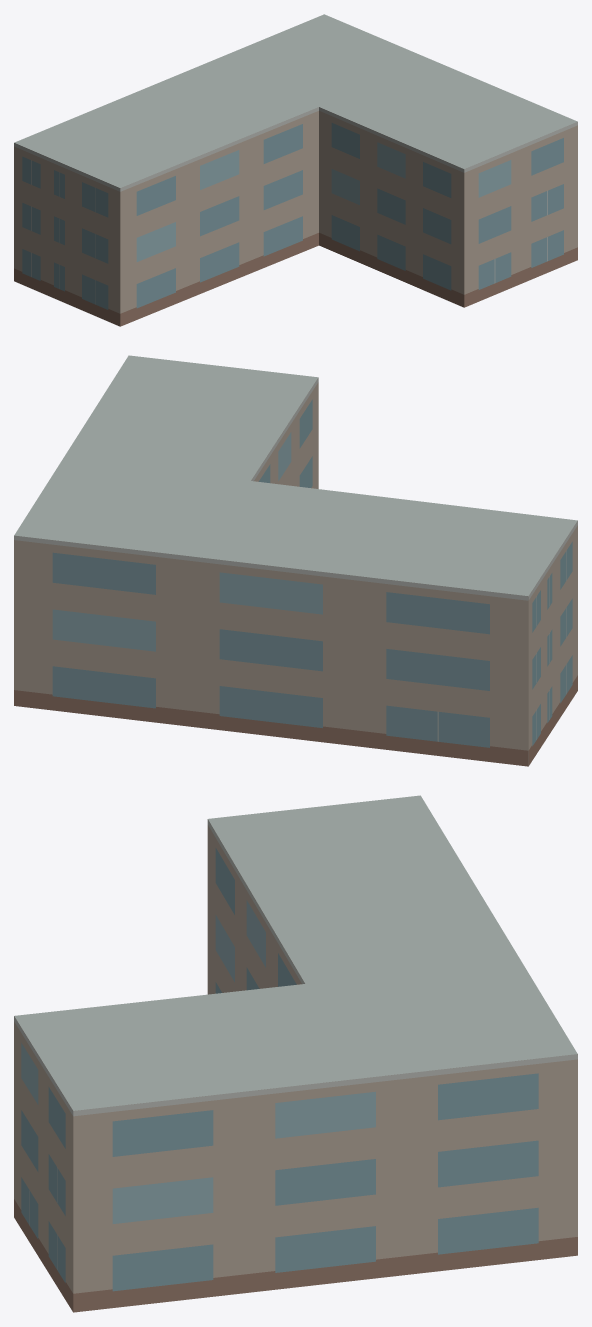
Rendered from survey-upis-32993449.glb.
3 views of the same model, one above another, from view 1: azimuth 30°, elevation 25°; view 2: azimuth 150°, elevation 25°; view 3: azimuth 270°, elevation 25° (orthographic). The views are drawn at different scales.
Visible parts, largest first — view 1: survey-upis-32993449.tmp; view 2: survey-upis-32993449.tmp; view 3: survey-upis-32993449.tmp.
Part boxes in pixels (x1,y1,x2,y2): survey-upis-32993449.tmp: (14, 14, 577, 326); survey-upis-32993449.tmp: (14, 355, 577, 766); survey-upis-32993449.tmp: (14, 795, 577, 1312).
Size of the model in its own units: 30.74 by 9.15 by 23.21.
